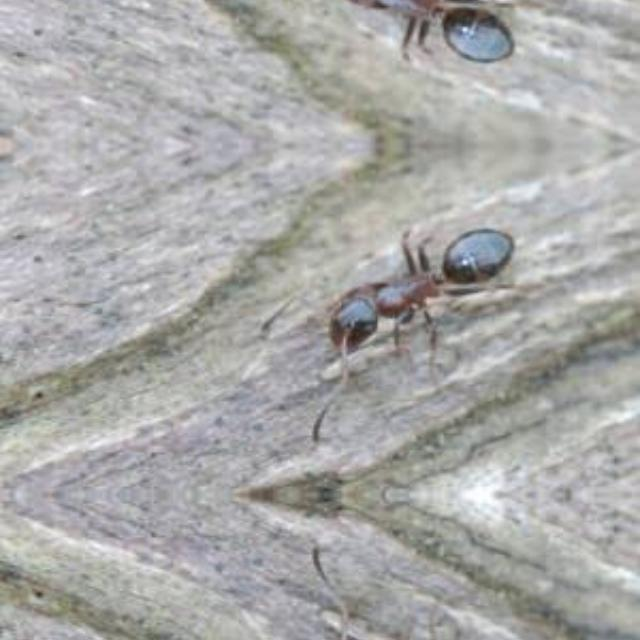Colobopsis: (287, 208, 528, 374), (286, 0, 528, 82)
